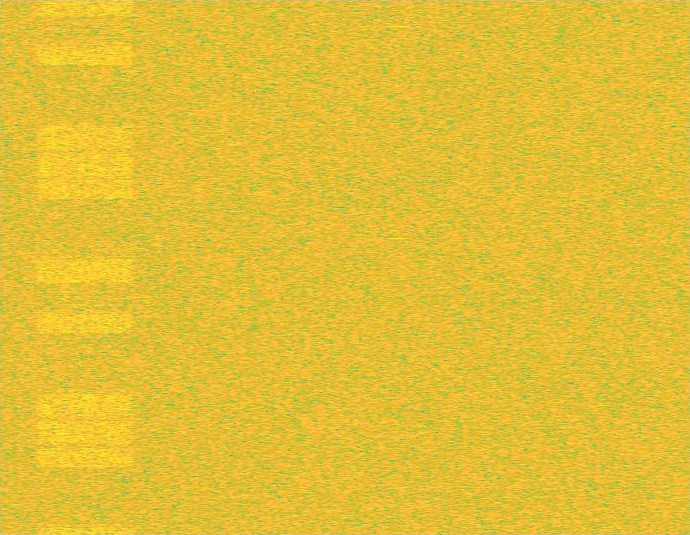LTE: (34, 0, 137, 534)
Radar: (392, 0, 406, 534)
